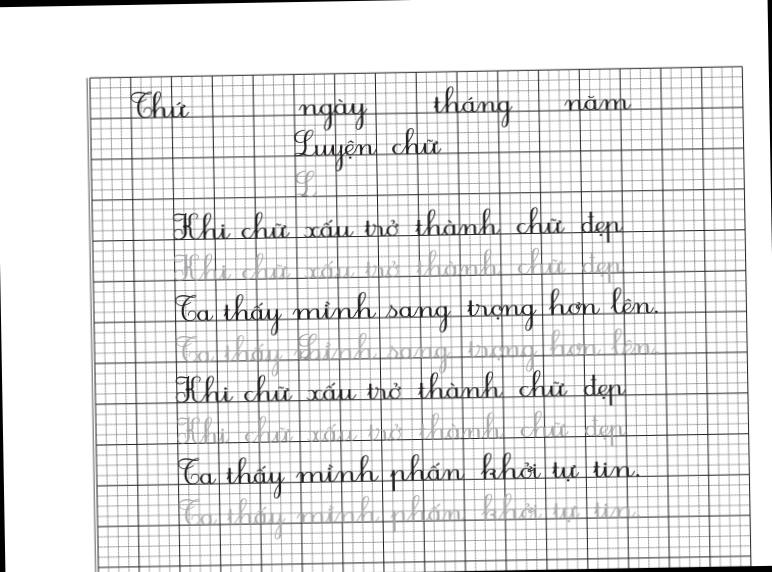text: (172, 283, 659, 340), (172, 326, 658, 379), (176, 447, 642, 502), (176, 488, 643, 542), (169, 203, 626, 252), (172, 367, 629, 415), (171, 244, 624, 292), (175, 410, 629, 455), (290, 124, 443, 173), (430, 84, 514, 130), (294, 96, 370, 131), (128, 86, 192, 122), (559, 93, 632, 113), (290, 168, 320, 199)
